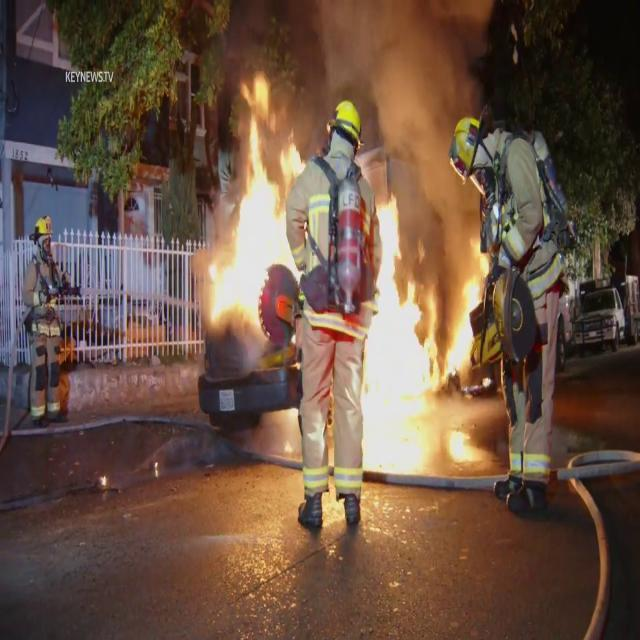Fire: (356, 192, 486, 410), (203, 74, 305, 330)
Smoke: (296, 0, 502, 203)
